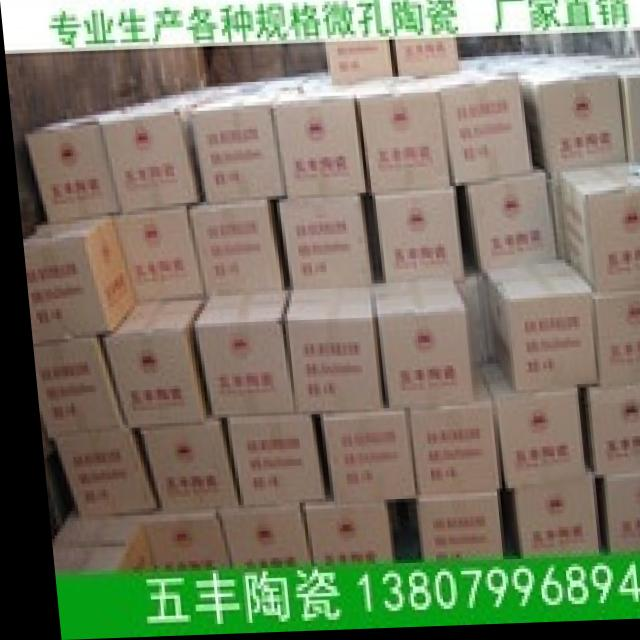box: (97, 83, 263, 216), (460, 52, 625, 177), (22, 100, 153, 222), (189, 79, 306, 204), (18, 216, 131, 344), (482, 264, 589, 397), (471, 361, 579, 492), (278, 286, 378, 417), (544, 164, 640, 300), (99, 298, 201, 425), (188, 292, 288, 420), (369, 284, 468, 411), (417, 80, 529, 189), (401, 368, 492, 501), (271, 75, 362, 201), (348, 82, 449, 195), (182, 202, 282, 298), (275, 196, 369, 296), (129, 420, 231, 512), (45, 425, 149, 515), (107, 207, 200, 307), (213, 420, 315, 510), (26, 338, 117, 438), (558, 57, 640, 165), (368, 193, 462, 287), (311, 410, 405, 504), (460, 177, 551, 273), (504, 479, 590, 559), (41, 508, 145, 573), (405, 492, 495, 565), (208, 505, 303, 568), (295, 502, 384, 568), (578, 387, 640, 479), (136, 510, 221, 570), (588, 293, 640, 391), (593, 476, 640, 557), (324, 43, 394, 88), (394, 41, 461, 83)
